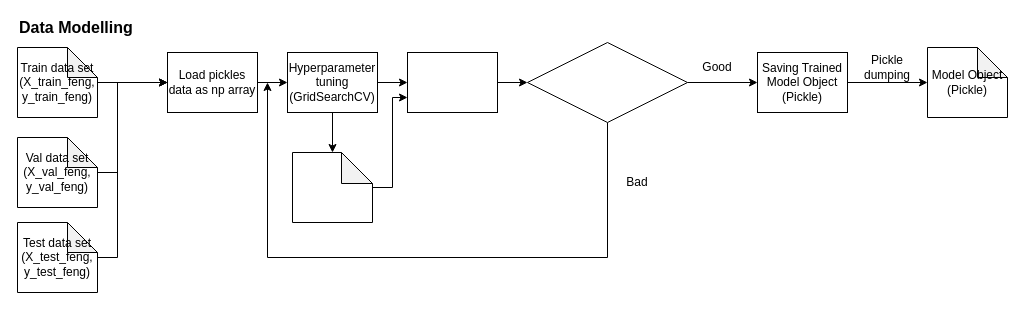
Image size: 1025x310. Some labels were removed from this diagram. The centre of each missing label's shape, as x and y in pixels:
"Compare model training score and val score (check over or under fit)" goes at [607,82].
"Model Best Params" goes at [332,187].
"Model Training" goes at [452,82].
